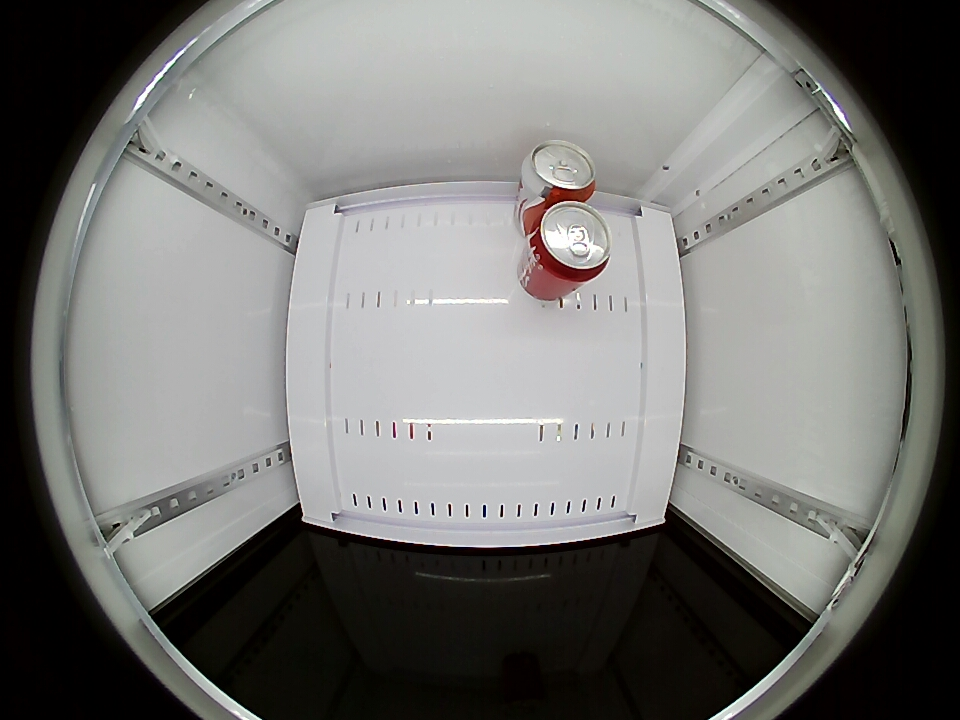jianlibao: (521, 140, 598, 201)
kele: (526, 200, 613, 283)
